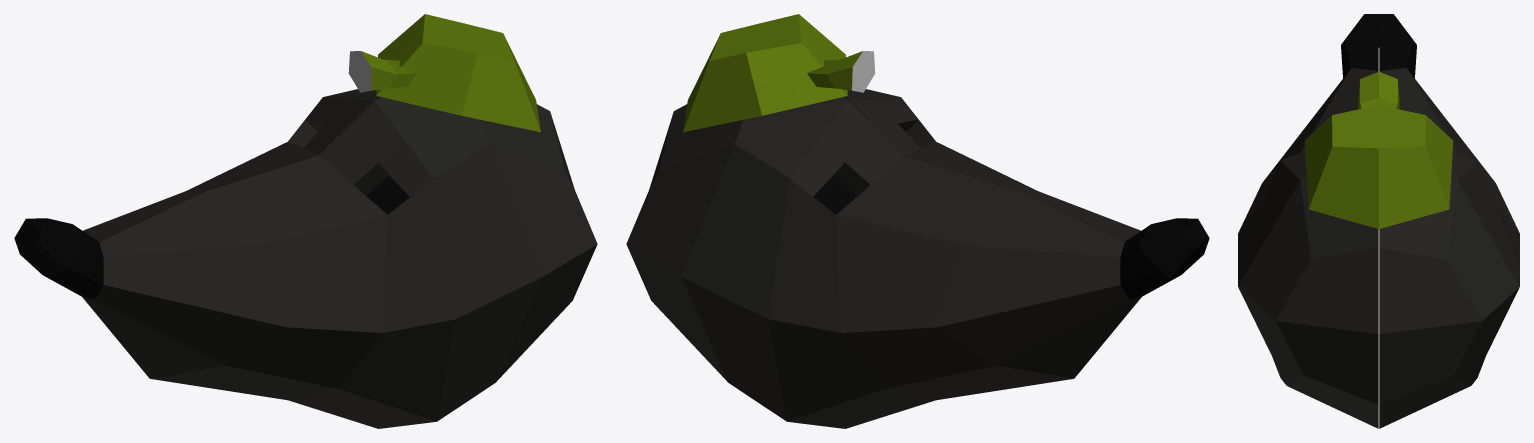
Rendered from mole.obj.
3 views of the same model, side by side, from view 1: azimuth 30°, elevation 25°; view 2: azimuth 150°, elevation 25°; view 3: azimuth 270°, elevation 25° (orthographic). The views are drawn at different scales.
Parts seen in each view (by area): view 1: Plane.001_Plane.002, Plane.002_Plane.003; view 2: Plane.001_Plane.002, Plane.002_Plane.003; view 3: Plane.001_Plane.002, Plane.002_Plane.003.
Part boxes in pixels (<box>): Plane.001_Plane.002: <box>14,89,597,428</box>; Plane.002_Plane.003: <box>348,14,540,132</box>; Plane.001_Plane.002: <box>626,89,1209,428</box>; Plane.002_Plane.003: <box>683,14,875,132</box>; Plane.001_Plane.002: <box>1238,14,1519,428</box>; Plane.002_Plane.003: <box>1304,72,1453,228</box>.
Bounding box in the file's own units: 6.69 × 4.42 × 3.33.
